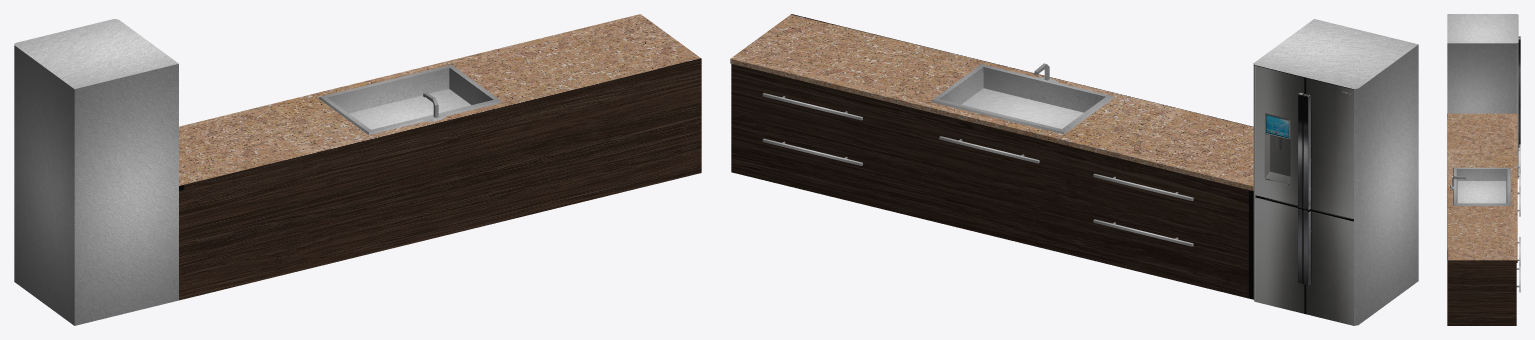
The model's file is cocina.obj.
3 renders of one model, left to right at view 1: azimuth 30°, elevation 25°; view 2: azimuth 150°, elevation 25°; view 3: azimuth 270°, elevation 25°, orthographic. The views are drawn at different scales.
Parts seen in each view (by area): view 1: Mesh; view 2: Mesh; view 3: Mesh.
Part boxes in pixels (bbox=[...]): Mesh: bbox=[14, 14, 701, 325]; Mesh: bbox=[730, 14, 1418, 325]; Mesh: bbox=[1447, 14, 1520, 325].
Bounding box in the file's own units: 7.83 × 2.82 × 1.38.
1 material, 1 textured.
